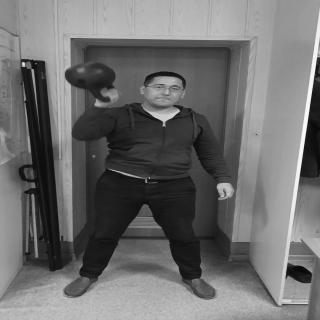girya: (66, 62, 119, 103)
